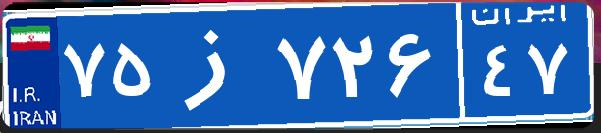2: (330, 28, 385, 110)
4: (475, 38, 525, 113)
5: (110, 28, 158, 105)
6: (385, 28, 445, 110)
7: (273, 28, 330, 110), (57, 26, 110, 107), (525, 38, 570, 115)
ز: (158, 15, 273, 115)
